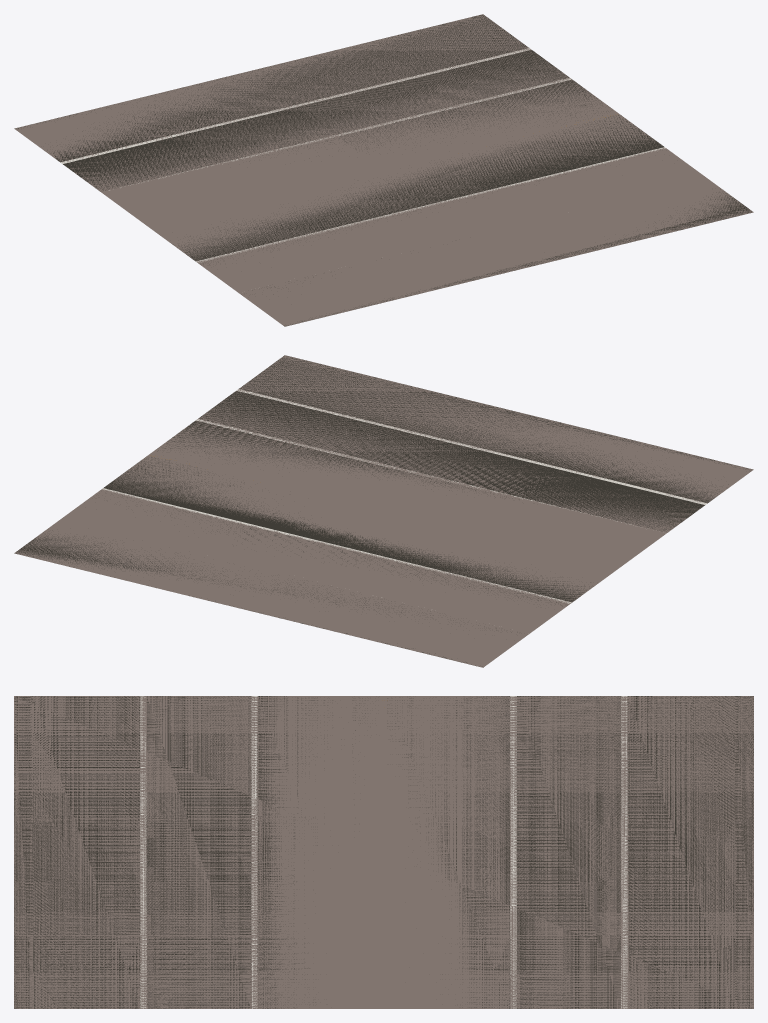
The model's file is Env_3lane.fbx.
3 views of the same model, one above another, from view 1: azimuth 30°, elevation 25°; view 2: azimuth 150°, elevation 25°; view 3: azimuth 270°, elevation 25° (orthographic). The views are drawn at different scales.
Parts seen in each view (by area): view 1: Env_3lane; view 2: Env_3lane; view 3: Env_3lane.
Boxes of the visible parts, x1,y1,x2,y2 form: Env_3lane: [14, 14, 753, 326]; Env_3lane: [14, 355, 753, 667]; Env_3lane: [14, 696, 753, 1008].
Size of the model in its own units: 2000 by 3.05e-05 by 2000.
